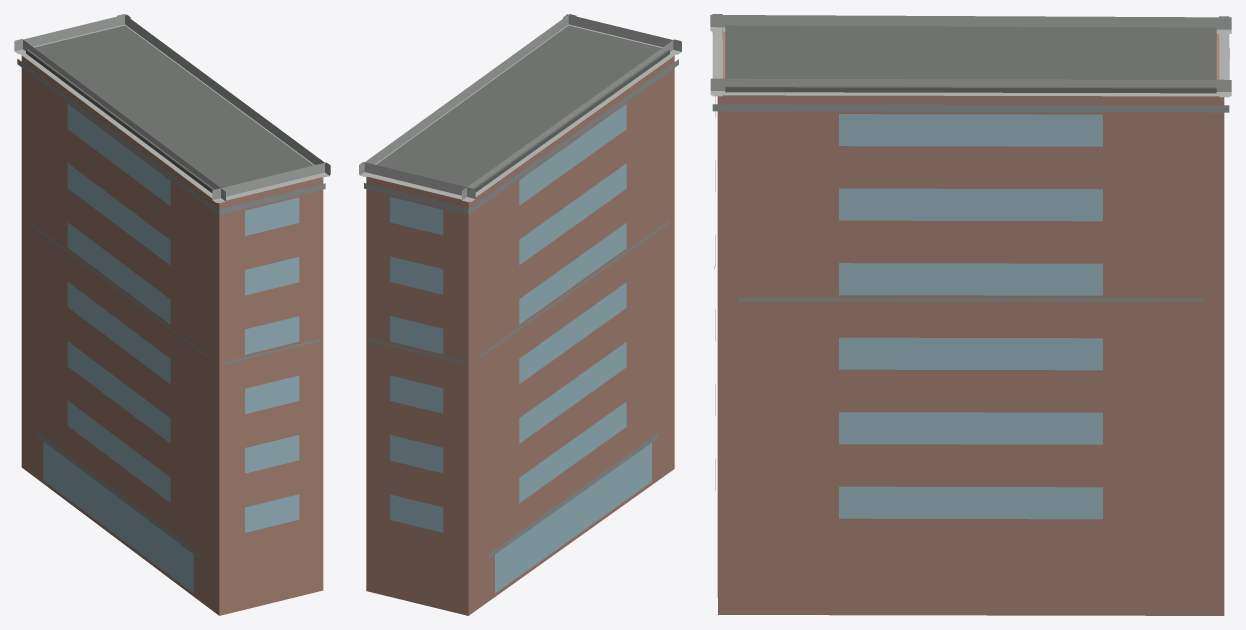
The picture shows the model from 3 angles, left to right: view 1: azimuth 30°, elevation 25°; view 2: azimuth 150°, elevation 25°; view 3: azimuth 270°, elevation 25°; orthographic projection. The views are drawn at different scales.
Visible parts, largest first — view 1: building-1800-mesh-0, building-1800-mesh-1, building-1800-mesh-3, building-1800-mesh-4, building-1800-mesh-2; view 2: building-1800-mesh-0, building-1800-mesh-1, building-1800-mesh-3, building-1800-mesh-4, building-1800-mesh-2; view 3: building-1800-mesh-0, building-1800-mesh-1, building-1800-mesh-3, building-1800-mesh-4, building-1800-mesh-2.
Boxes of the visible parts, x1=… form: building-1800-mesh-0: x1=21, y1=55, x2=323, y2=615; building-1800-mesh-1: x1=43, y1=104, x2=299, y2=592; building-1800-mesh-3: x1=26, y1=25, x2=313, y2=192; building-1800-mesh-4: x1=14, y1=14, x2=330, y2=203; building-1800-mesh-2: x1=17, y1=58, x2=325, y2=558; building-1800-mesh-0: x1=366, y1=56, x2=674, y2=615; building-1800-mesh-1: x1=390, y1=104, x2=651, y2=593; building-1800-mesh-3: x1=376, y1=25, x2=669, y2=192; building-1800-mesh-4: x1=359, y1=14, x2=681, y2=202; building-1800-mesh-2: x1=364, y1=59, x2=678, y2=558; building-1800-mesh-0: x1=717, y1=31, x2=1224, y2=615; building-1800-mesh-1: x1=715, y1=96, x2=1102, y2=519; building-1800-mesh-3: x1=725, y1=25, x2=1216, y2=93; building-1800-mesh-4: x1=710, y1=14, x2=1231, y2=97; building-1800-mesh-2: x1=712, y1=104, x2=1229, y2=301.
Bounding box in the file's own units: 6.86 × 24 × 21.25.
